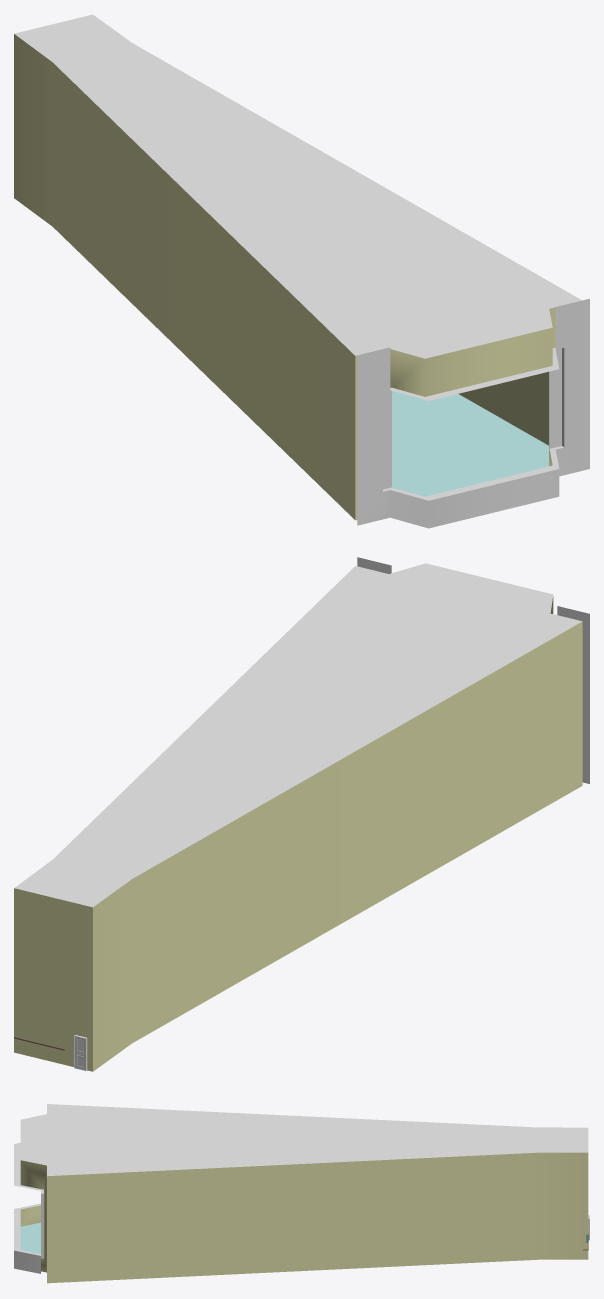
The model's file is KitchenSet_mar9.fbx.
3 renders of one model, top to bottom at view 1: azimuth 30°, elevation 25°; view 2: azimuth 150°, elevation 25°; view 3: azimuth 270°, elevation 25°, orthographic. The views are drawn at different scales.
Parts seen in each view (by area): view 1: pCube107; view 2: pCube107; view 3: pCube107.
Part boxes in pixels (x1,y1,x2,y2): pCube107: [14, 14, 589, 528]; pCube107: [14, 557, 589, 1071]; pCube107: [14, 1104, 589, 1283].
Bounding box in the file's own units: 14.74 × 10.32 × 48.54.
